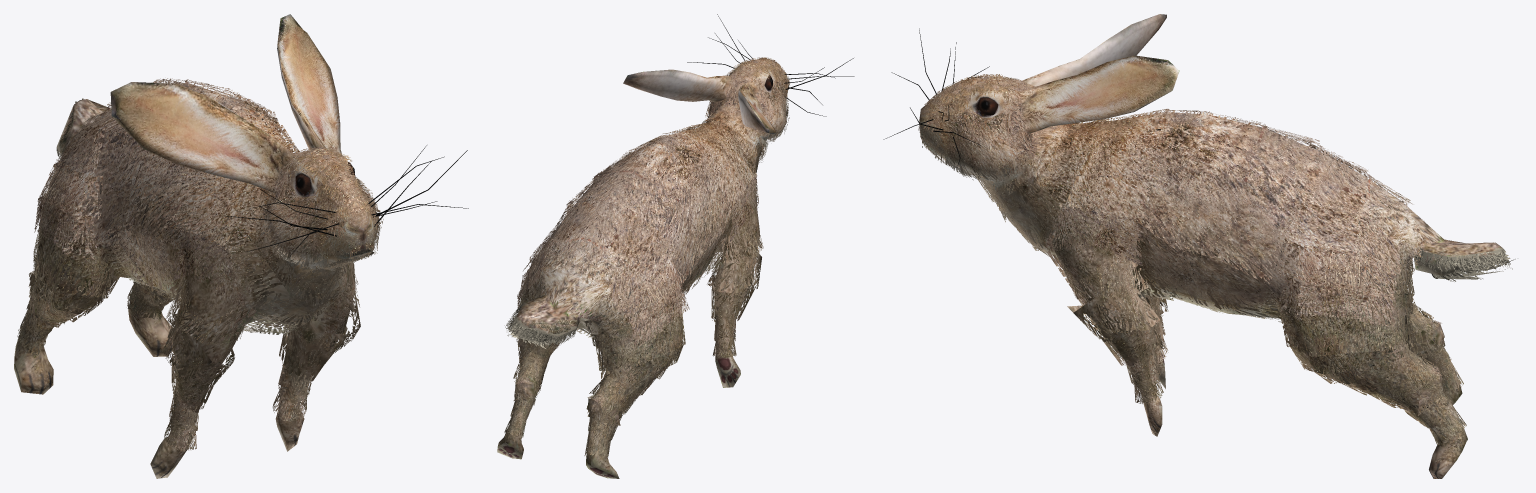
The model's file is rabbit20007.obj.
3 renders of one model, left to right at view 1: azimuth 30°, elevation 25°; view 2: azimuth 150°, elevation 25°; view 3: azimuth 270°, elevation 25°, orthographic. The views are drawn at different scales.
Visible parts, largest first — view 1: Rabbit, Fur; view 2: Rabbit, Fur; view 3: Rabbit, Fur.
Boxes of the visible parts, x1=… form: Rabbit: x1=14, y1=14, x2=468, y2=478; Fur: x1=17, y1=78, x2=383, y2=451; Rabbit: x1=497, y1=14, x2=854, y2=478; Fur: x1=504, y1=57, x2=790, y2=457; Rabbit: x1=883, y1=14, x2=1502, y2=478; Fur: x1=918, y1=74, x2=1515, y2=444.
Size of the model in its own units: 8.53 by 14.71 by 21.09.
